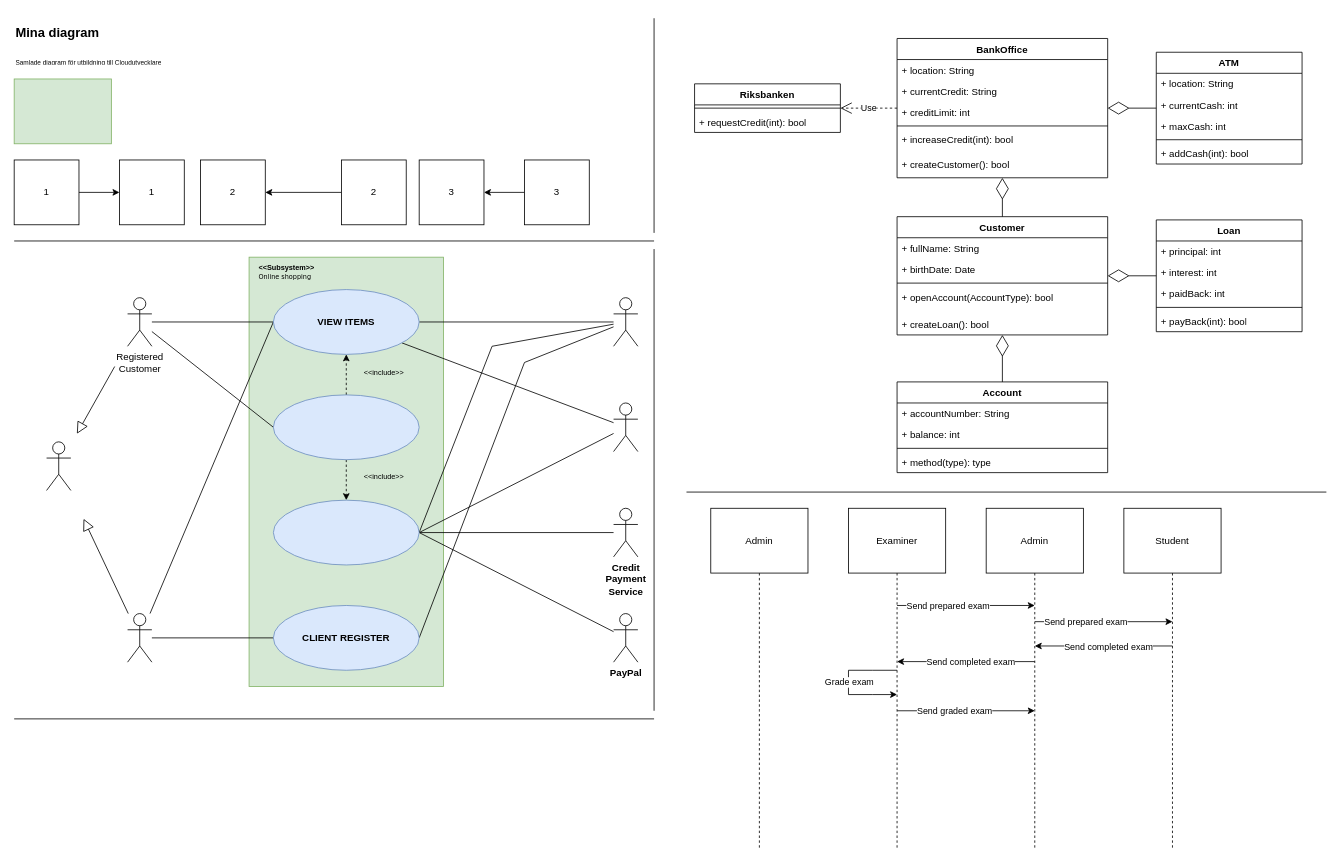
Image size: 1341x863. Some labels were removed from this diagram. Here are the shapes that lost their labels. From the top down, the centre of each, then its label:
At point (62, 111): "Superklass".
At point (625, 321): "Service Provider".
At point (346, 427): "MAKE PURCHASE".
At point (625, 427): "Identity Provider".
At point (58, 465): "Web Customer".
At point (346, 532): "CHECKOUT".
At point (139, 637): "New Customer".
